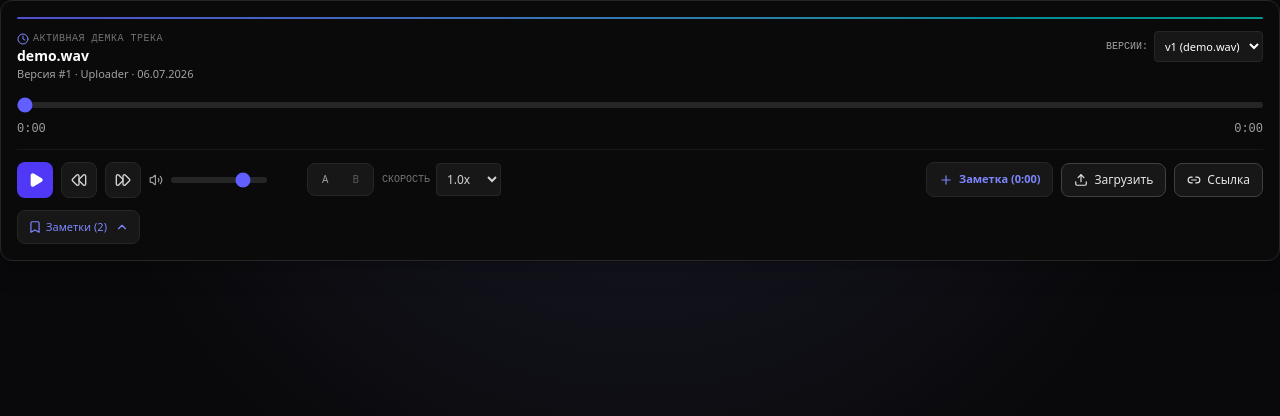
Test: AudioPlayer › shows current asset annotations and legacy null annotations, but hides other asset annotations
Click the button with aria-label "Показать заметки" at (78,227), box [17, 210, 140, 244]
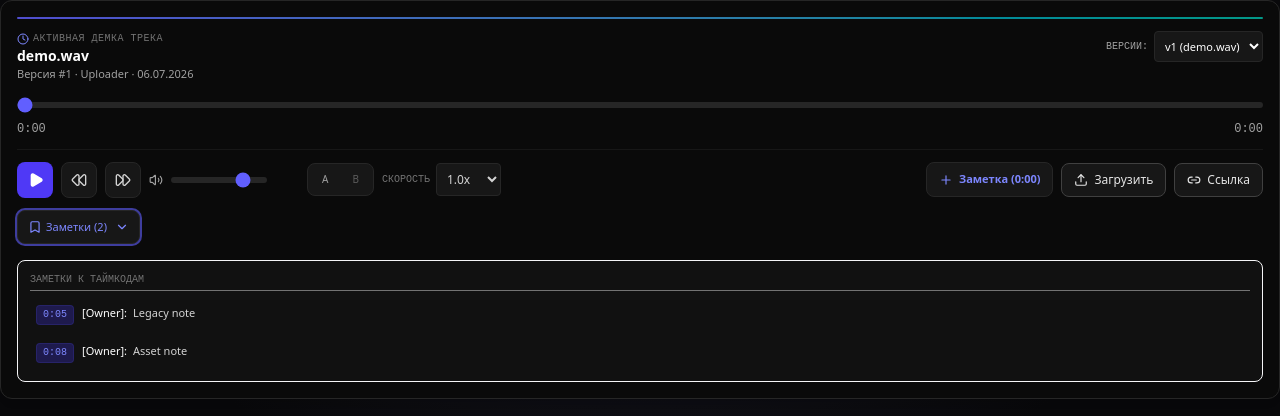
expect the text "Legacy note" is shown: met, box [133, 305, 195, 320]
expect the text "Asset note" is shown: met, box [133, 343, 187, 358]
